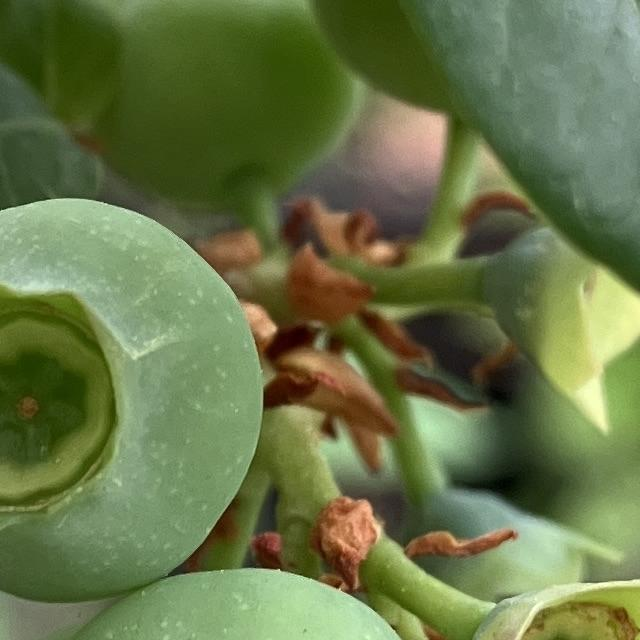Blueberries: (0, 193, 277, 605)
